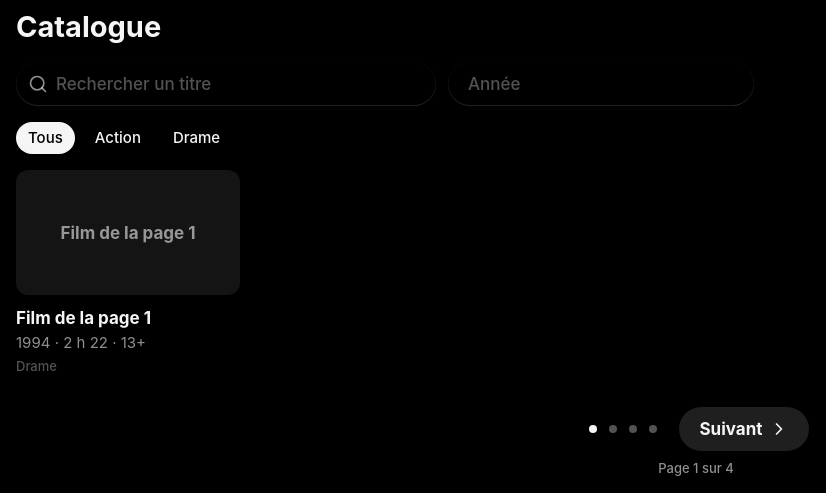
Test: filtres du catalogue (spec 09) › revient au genre précédent avec le bouton Retour
Later steps or results of the test are not shown.
What coordinates should you click on to do the following:
click the button "Drame"
I would click on:
 (197, 138)
Its box is [161,122,232,154].
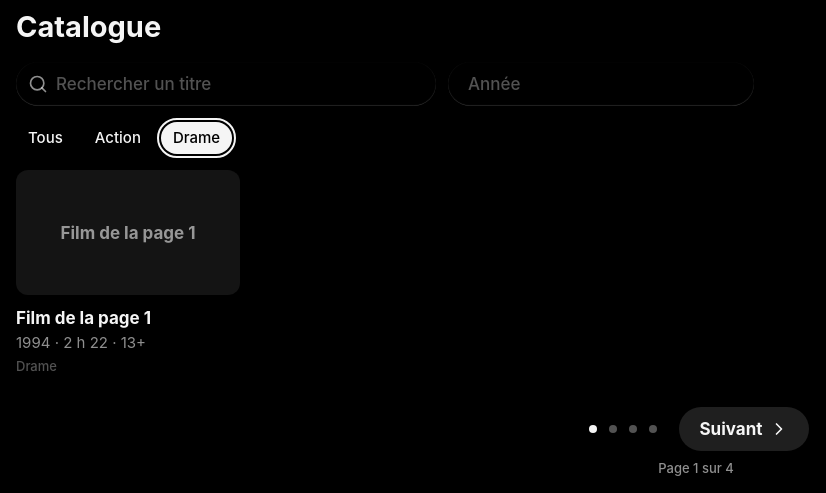
Result: the button "Drame" is pressed at [161,122,232,154]
